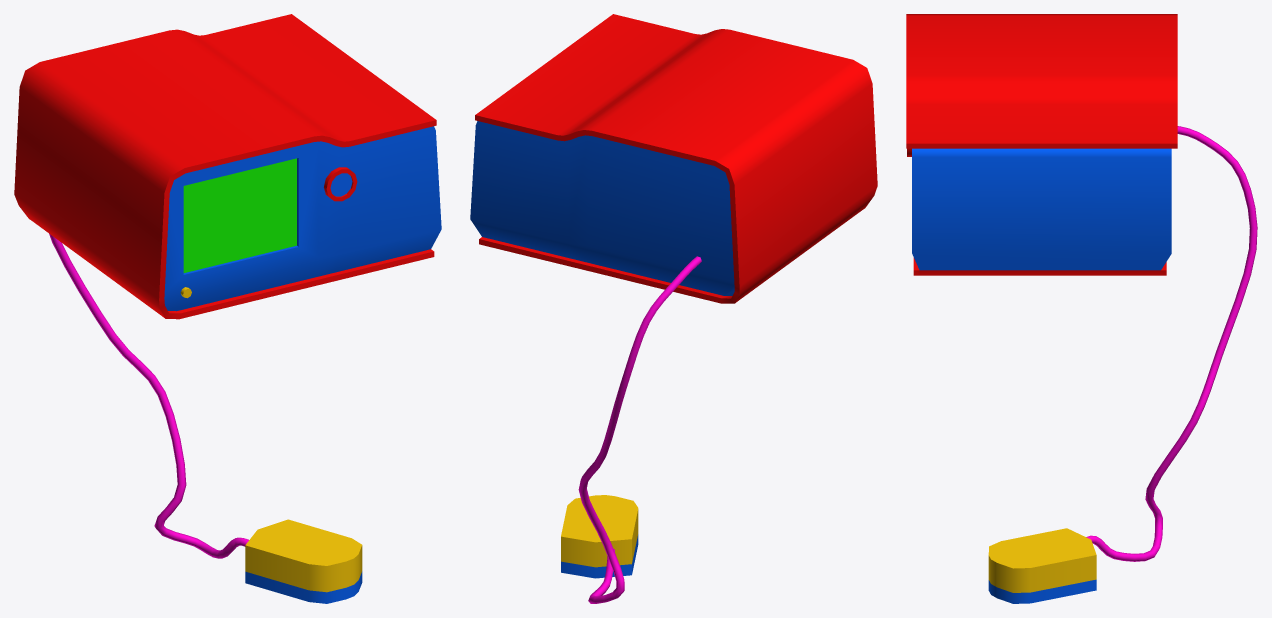
Rendered from hospital_fnt_mesita2_maquina1.fbx.
3 renders of one model, left to right at view 1: azimuth 30°, elevation 25°; view 2: azimuth 150°, elevation 25°; view 3: azimuth 270°, elevation 25°, orthographic. The views are drawn at different scales.
Visible parts, largest first — view 1: hospital_fnt_mesita2_maquina1; view 2: hospital_fnt_mesita2_maquina1; view 3: hospital_fnt_mesita2_maquina1.
Boxes of the visible parts, left/top/right/bottom form: hospital_fnt_mesita2_maquina1: left=14, top=14, right=441, bottom=603; hospital_fnt_mesita2_maquina1: left=470, top=14, right=877, bottom=603; hospital_fnt_mesita2_maquina1: left=906, top=14, right=1257, bottom=603.
Bounding box in the file's own units: 38.11 × 65.43 × 43.32.
